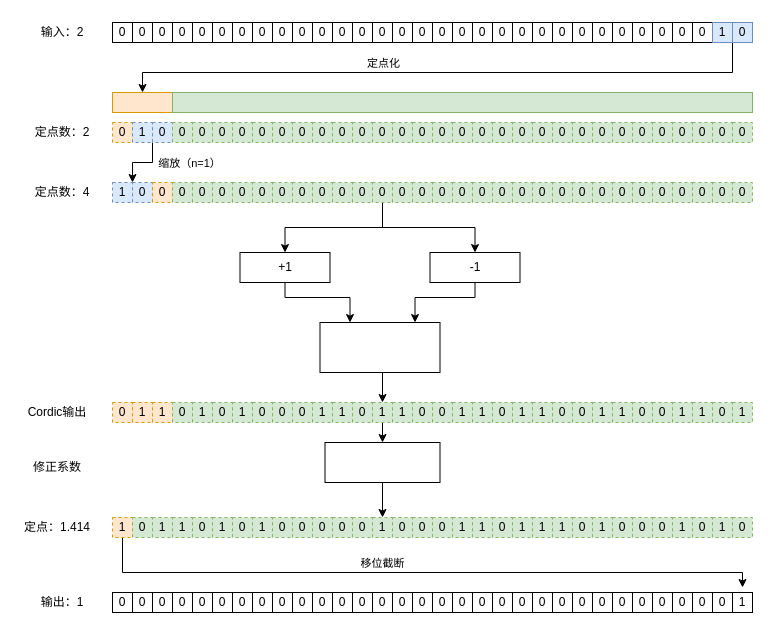
The diagram is 770 pixels wide and 634 high, and some of its shapes have lost their labels. Here are the shapes that lost their labels. From the top down, the centre of each, then its label:
the point at 142,102: 3bit
the point at 462,102: 29bit
the point at 379,347: Hyperbolic Cordic
the point at 382,462: *K
